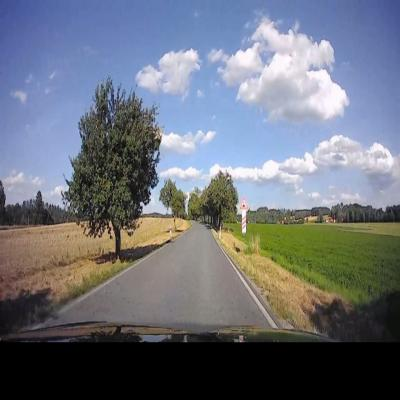clear-road: (42, 222, 271, 333)
